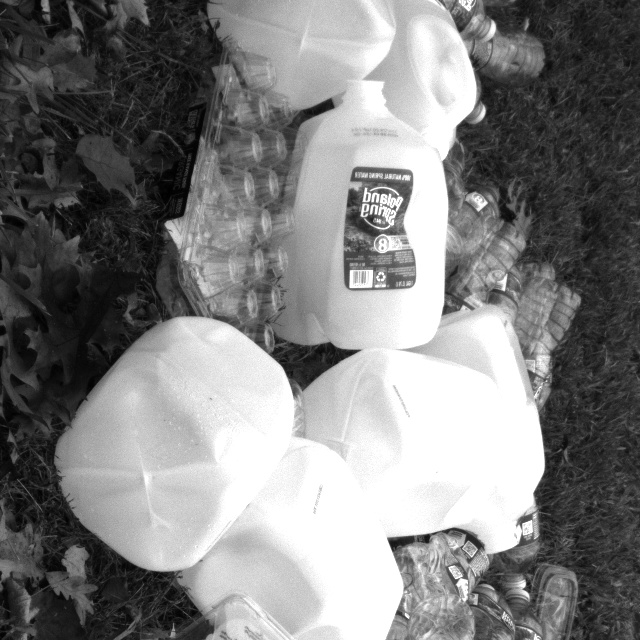bottle: (504, 259, 562, 410), (447, 185, 500, 296), (463, 29, 550, 79), (454, 582, 519, 640)
can: (38, 317, 298, 577), (287, 347, 549, 541), (166, 433, 403, 640), (269, 79, 449, 347), (415, 300, 550, 559), (330, 0, 476, 155), (209, 0, 392, 115)
container: (155, 59, 305, 373), (524, 563, 585, 640)
